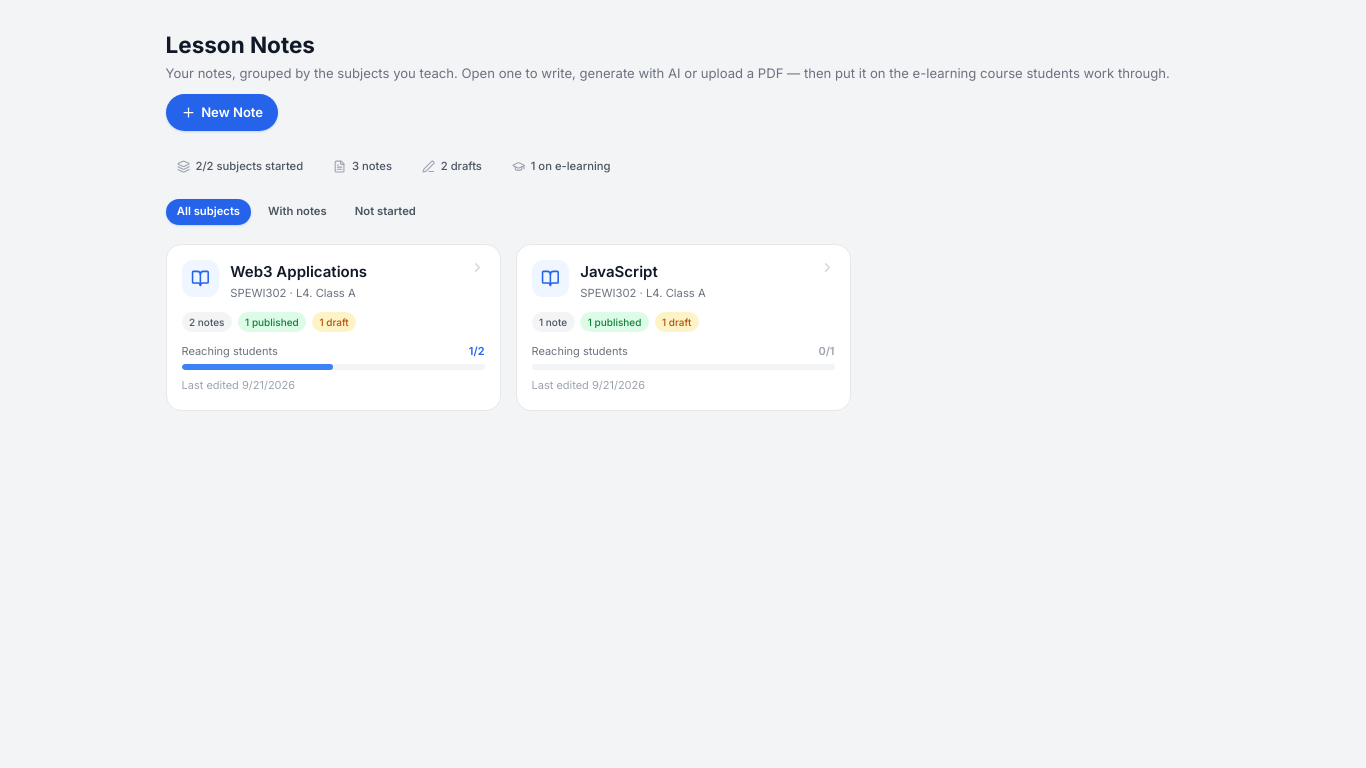
Test: LessonNotesListPage — subject-first browsing and e-learning linkage › deletes a note after confirming, warning that it leaves the course too
Click the heading "Web3 Applications". click: (299,271)
box: [230,262,367,281]
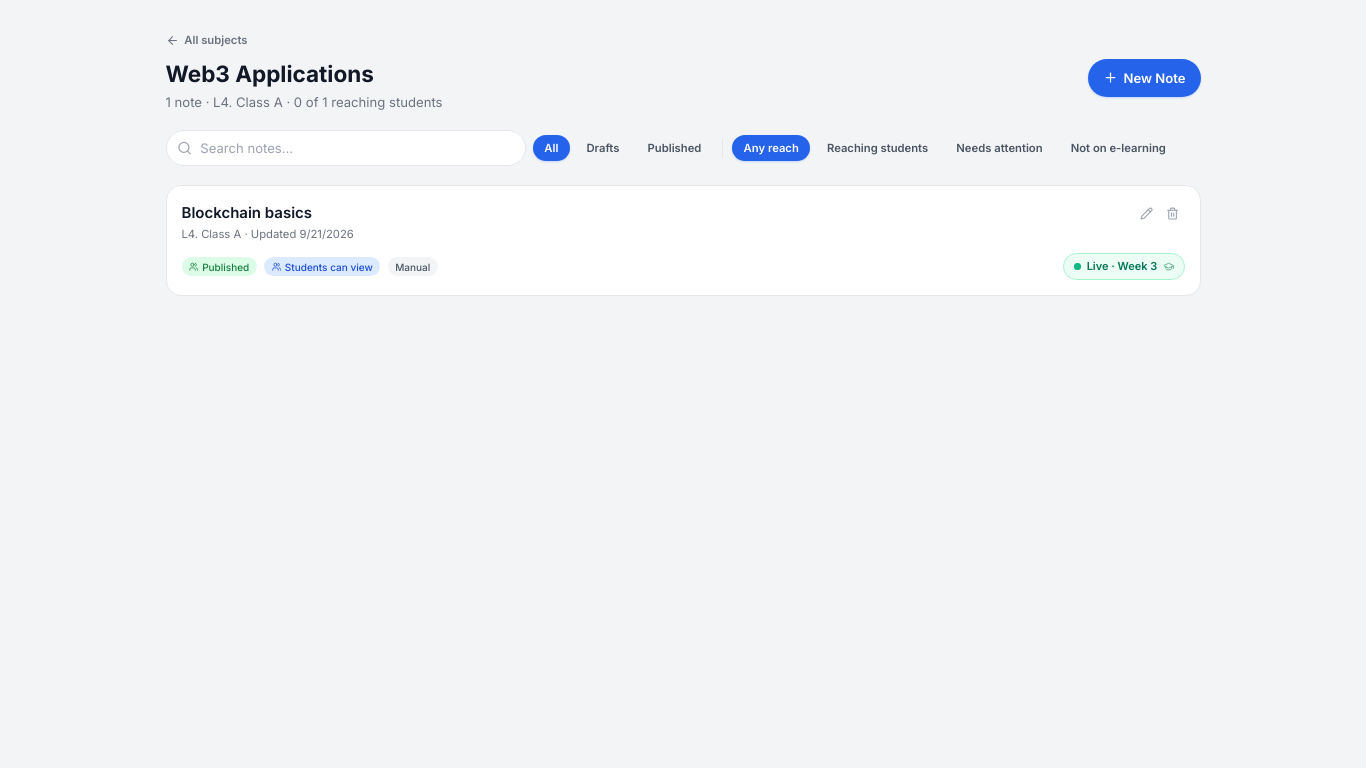
Click the button named "Delete Blockchain basics". click: (1172,213)
box: [1160,201,1184,225]
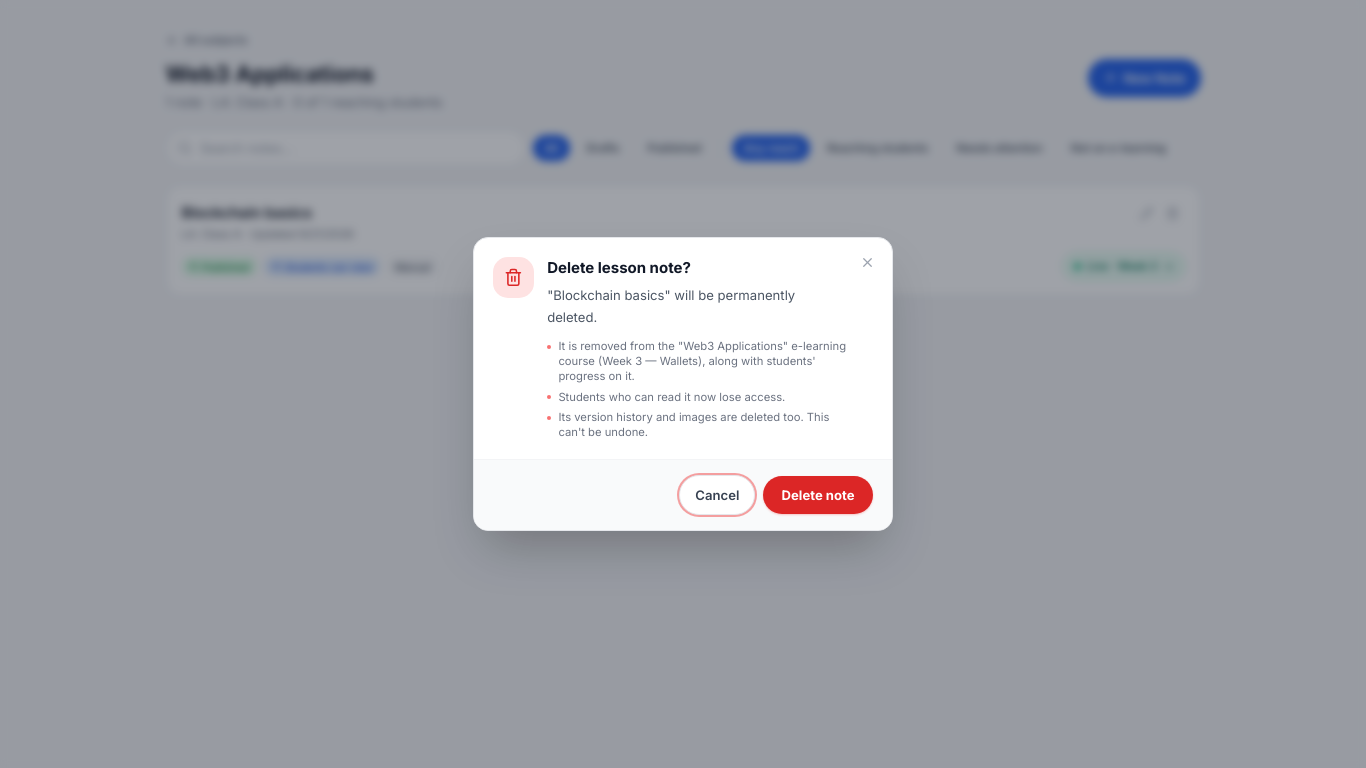
Now the heading "Delete lesson note?" is shown, box [547,258,691,277]
Now the list item "removed from the \"Web3 Applications\" e-learning course" is shown, box [558,339,846,383]
Click the button "Delete note". click: (818,495)
box: [763,476,873,514]
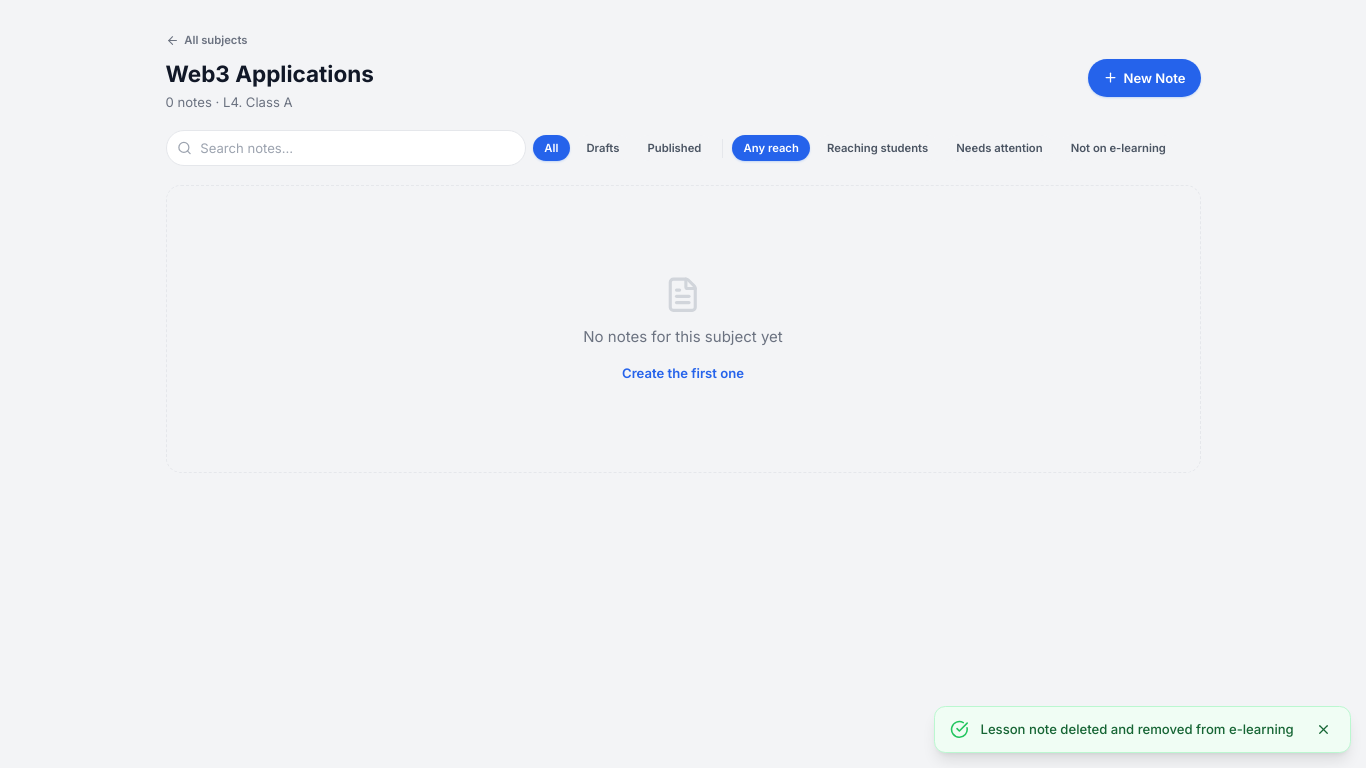
Now the button "Blockchain basics" is gone
